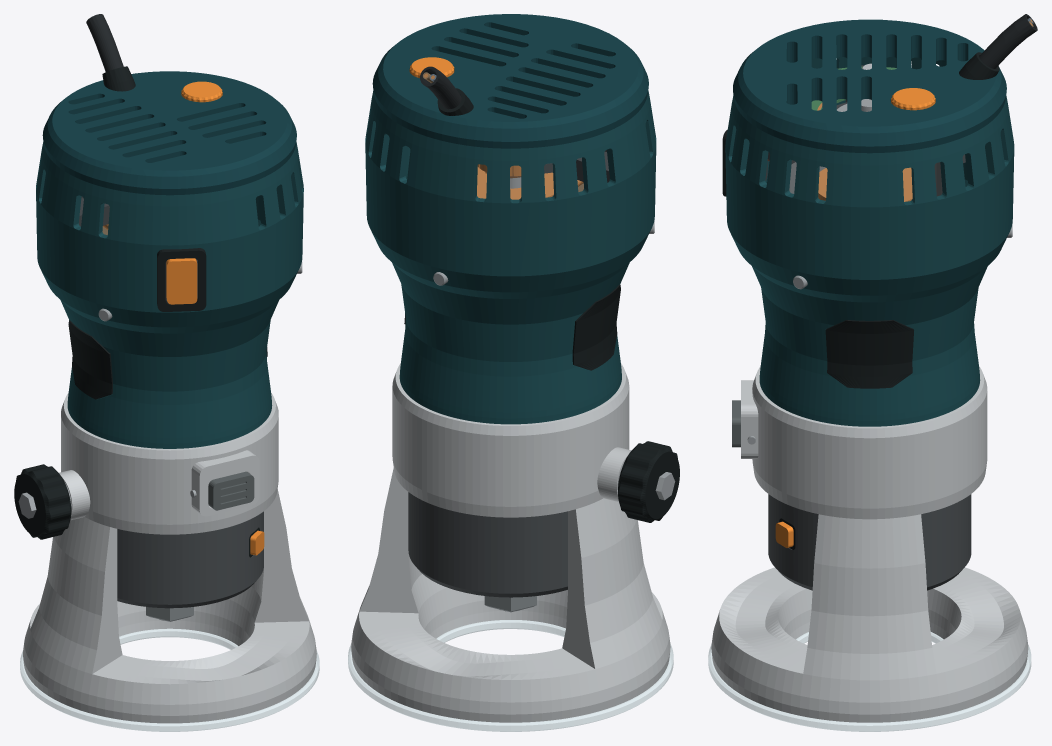
3 views of the same model, side by side, from view 1: azimuth 30°, elevation 25°; view 2: azimuth 150°, elevation 25°; view 3: azimuth 270°, elevation 25° (orthographic). The views are drawn at different scales.
Parts seen in each view (by area): view 1: Twin column cast frame, Vented upper motor enclosure, Parallel grille top cover, Waisted hand grip shell, Lower motor barrel cup, Clear annular subbase, Scalloped depth adjustment wheel, Lateral elastomer grip 02, Side rocker mounting bezel, Amber power rocker, Motor release slider, Short power cord jacket (+3 smaller); view 2: Twin column cast frame, Vented upper motor enclosure, Parallel grille top cover, Waisted hand grip shell, Lower motor barrel cup, Clear annular subbase, Scalloped depth adjustment wheel, Lateral elastomer grip 02, Short power cord jacket, Hexagonal collet nut, Upper armature copper end turns, Top amber speed wheel; view 3: Twin column cast frame, Vented upper motor enclosure, Parallel grille top cover, Waisted hand grip shell, Lower motor barrel cup, Lateral elastomer grip 01, Clear annular subbase, Short power cord jacket, Top amber speed wheel, Rear cord strain relief, Upper armature copper end turns.
Part boxes in pixels (x1,y1,x2,y2): Twin column cast frame: (23,392,316,723); Vented upper motor enclosure: (36,142,303,333); Parallel grille top cover: (42,71,296,195); Waisted hand grip shell: (60,300,278,448); Lower motor barrel cup: (117,511,263,608); Clear annular subbase: (20,628,319,731); Scalloped depth adjustment wheel: (14,464,71,539); Lateral elastomer grip 02: (68,320,112,399); Side rocker mounting bezel: (157,248,206,311); Amber power rocker: (166,258,197,304); Motor release slider: (208,471,254,510); Short power cord jacket: (86,14,123,71); Twin column cast frame: (351,363,670,722); Vented upper motor enclosure: (365,91,656,298); Parallel grille top cover: (372,14,648,148); Waisted hand grip shell: (392,263,629,424); Lower motor barrel cup: (408,492,567,597); Clear annular subbase: (348,620,673,731); Scalloped depth adjustment wheel: (618,441,679,522); Lateral elastomer grip 02: (572,284,620,370); Short power cord jacket: (420,66,461,109); Hexagonal collet nut: (484,596,536,612); Upper armature copper end turns: (477,167,553,199); Top amber speed wheel: (409,57,454,78); Twin column cast frame: (711,366,1028,722); Vented upper motor enclosure: (725,57,1014,302); Parallel grille top cover: (733,19,1006,153); Waisted hand grip shell: (752,266,987,426); Lower motor barrel cup: (768,494,971,590); Lateral elastomer grip 01: (825,320,913,388); Clear annular subbase: (708,632,1031,731); Short power cord jacket: (979,14,1037,68); Top amber speed wheel: (891,88,935,110); Rear cord strain relief: (959,52,999,79); Upper armature copper end turns: (818,167,912,201).
Bounding box in the file's own units: 0.11 × 0.2306 × 0.106.
